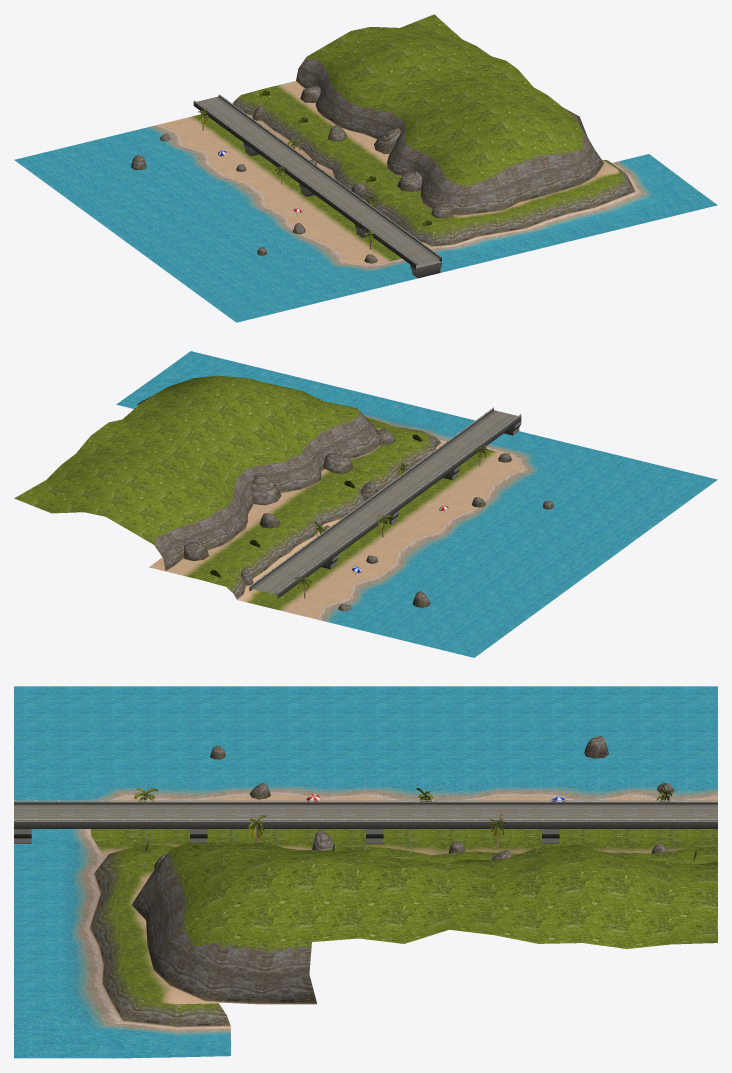
File: Track011_Low.FBX
3 views of the same model, one above another, from view 1: azimuth 30°, elevation 25°; view 2: azimuth 150°, elevation 25°; view 3: azimuth 270°, elevation 25° (orthographic). The views are drawn at different scales.
Parts seen in each view (by area): view 1: Ground, Rock, Road (×2); view 2: Ground, Rock (×3), Road (×2); view 3: Ground, Rock, Road (×2).
Part boxes in pixels (x1,y1,x2,y2): Ground: (14,81,717,322); Rock: (296,14,604,215); Road (×2): (193,94,441,268); Ground: (116,351,717,657); Rock (×3): (14,375,380,570); Road (×2): (249,407,521,598); Ground: (14,686,717,1058); Rock: (131,842,717,1004); Road (×2): (14,800,717,828).
Size of the model in its own units: 7877 by 1067 by 6300.
